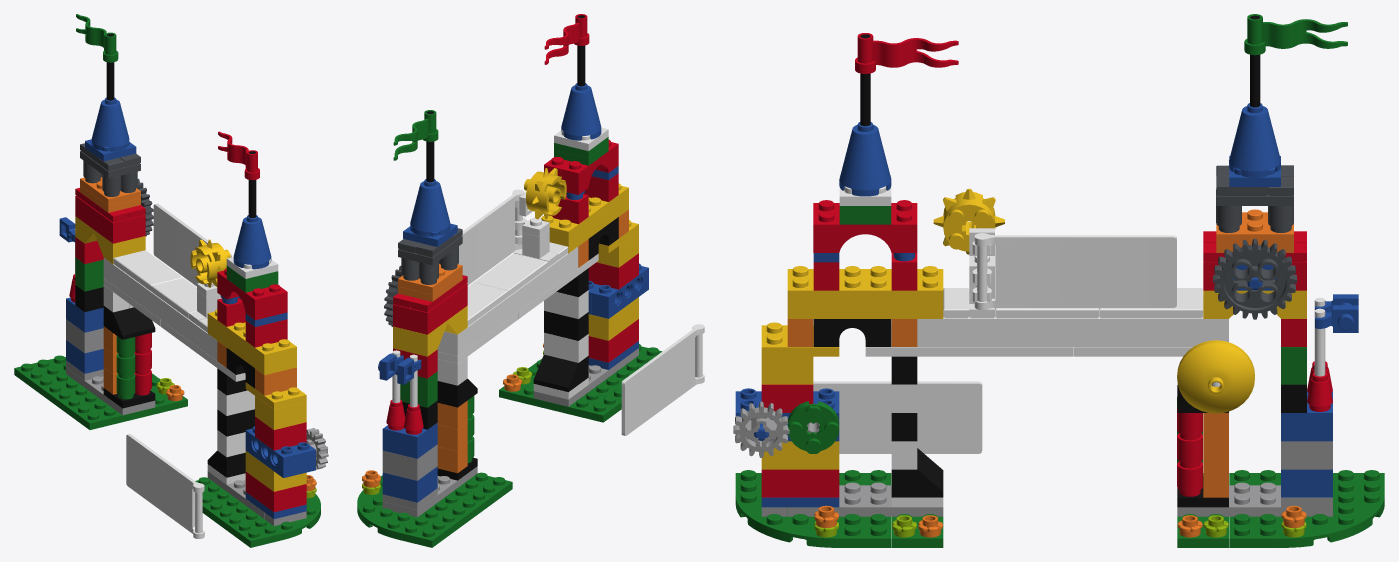
The model's file is LEGOLAND® Park_door 1.fbx.
3 renders of one model, left to right at view 1: azimuth 30°, elevation 25°; view 2: azimuth 150°, elevation 25°; view 3: azimuth 270°, elevation 25°, orthographic. The views are drawn at different scales.
Parts seen in each view (by area): view 1: part.991, part.186, part.187, part.190, part.175, part.132, part.164, part.167, part.166, part.192, part.159, part.095 (+48 smaller); view 2: part.991, part.187, part.132, part.190, part.175, part.162, part.166, part.167, part.191, part.094, part.159, part.138 (+51 smaller); view 3: part.132, part.991, part.990, part.175, part.187, part.186, part.153, part.174, part.155, part.166, part.167, part.181 (+35 smaller).
Boxes of the visible parts, <box> form: part.991: <box>126,434,204,538</box>; part.186: <box>202,491,320,547</box>; part.187: <box>14,355,160,415</box>; part.190: <box>103,258,217,360</box>; part.175: <box>207,309,296,375</box>; part.132: <box>153,203,231,286</box>; part.164: <box>71,388,187,429</box>; part.167: <box>91,97,129,151</box>; part.166: <box>233,215,271,269</box>; part.192: <box>113,250,182,290</box>; part.159: <box>245,426,299,477</box>; part.095: <box>245,471,306,512</box>; part.991: <box>621,324,704,435</box>; part.187: <box>357,475,492,547</box>; part.132: <box>458,189,524,285</box>; part.190: <box>440,247,578,356</box>; part.175: <box>540,183,628,253</box>; part.162: <box>499,378,621,422</box>; part.166: <box>561,83,601,140</box>; part.167: <box>410,179,450,236</box>; part.191: <box>474,253,548,297</box>; part.094: <box>524,168,566,219</box>; part.159: <box>591,263,648,318</box>; part.138: <box>533,354,588,392</box>; part.132: <box>974,233,1176,309</box>; part.991: <box>813,381,982,453</box>; part.990: <box>917,308,1228,346</box>; part.175: <box>787,266,943,318</box>; part.187: <box>1229,470,1384,547</box>; part.186: <box>735,470,891,547</box>; part.153: <box>1213,238,1296,319</box>; part.174: <box>1177,340,1254,413</box>; part.155: <box>813,211,917,252</box>; part.166: <box>839,122,891,196</box>; part.167: <box>1229,103,1280,177</box>; part.181: <box>855,33,958,73</box>.
Bounding box in the file's own units: 6621 × 16916 × 20068.
